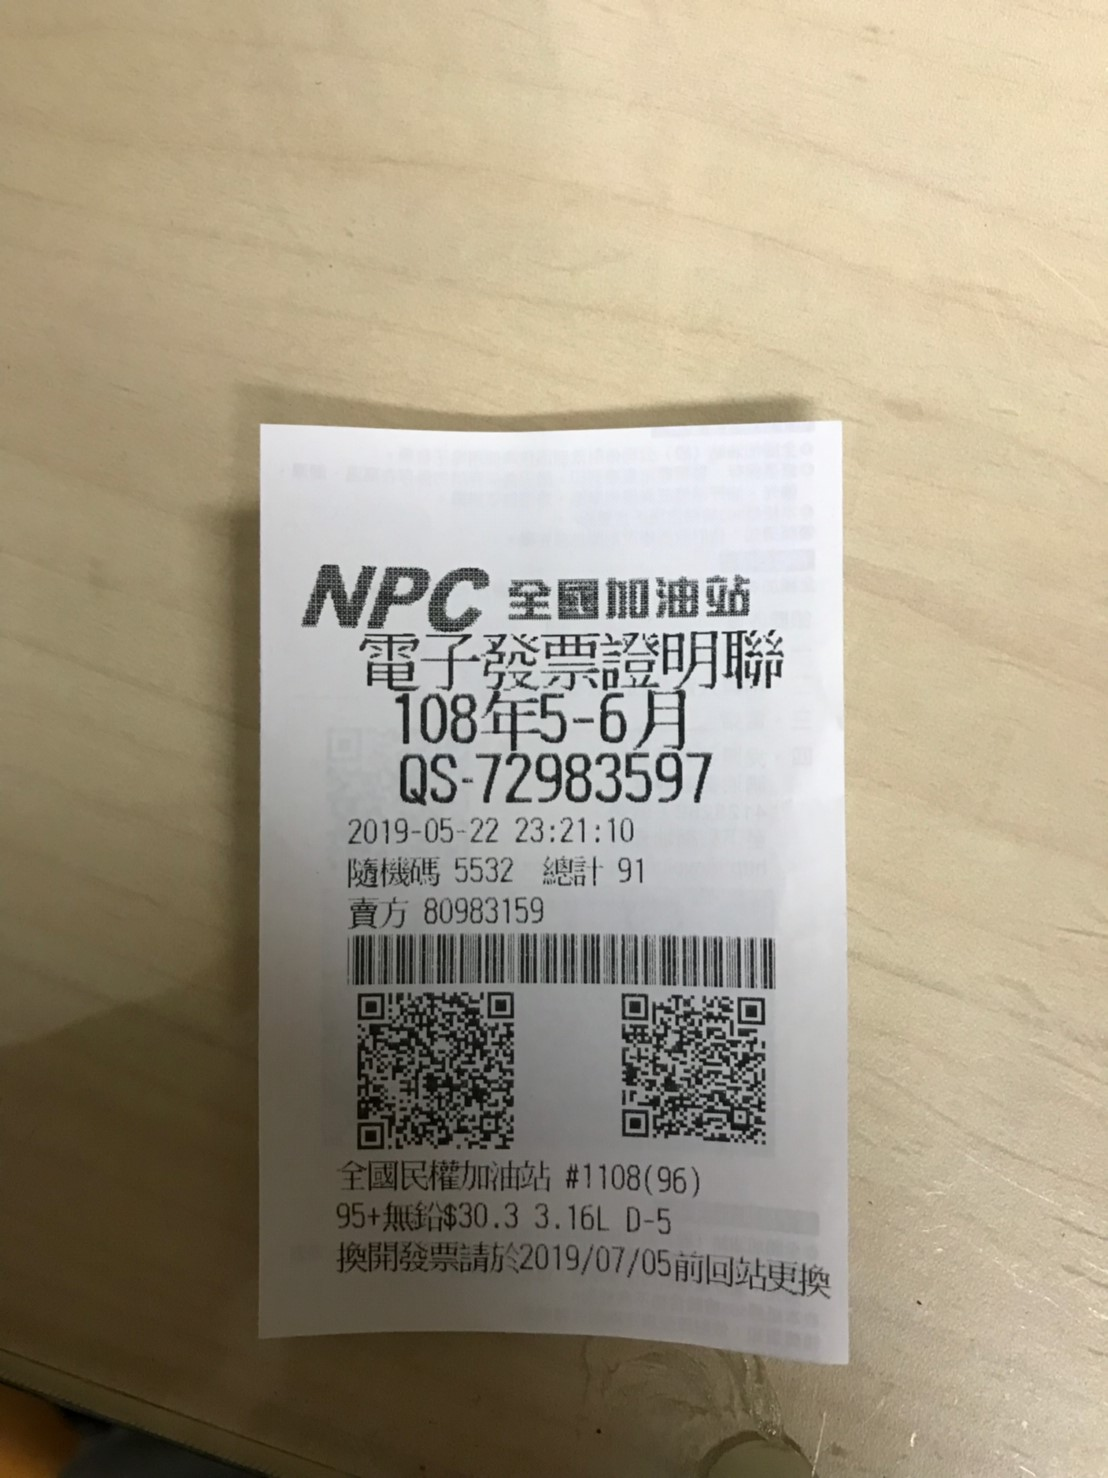Date_New: (393, 684, 690, 748)
Number_New: (475, 748, 719, 806)
